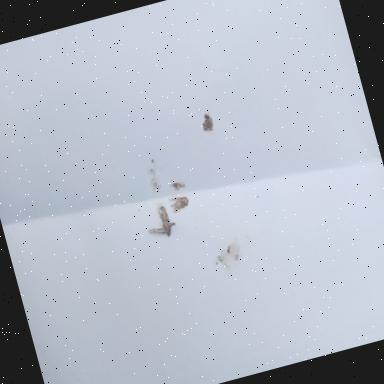pbw: (143, 203, 179, 241), (168, 194, 190, 213)
